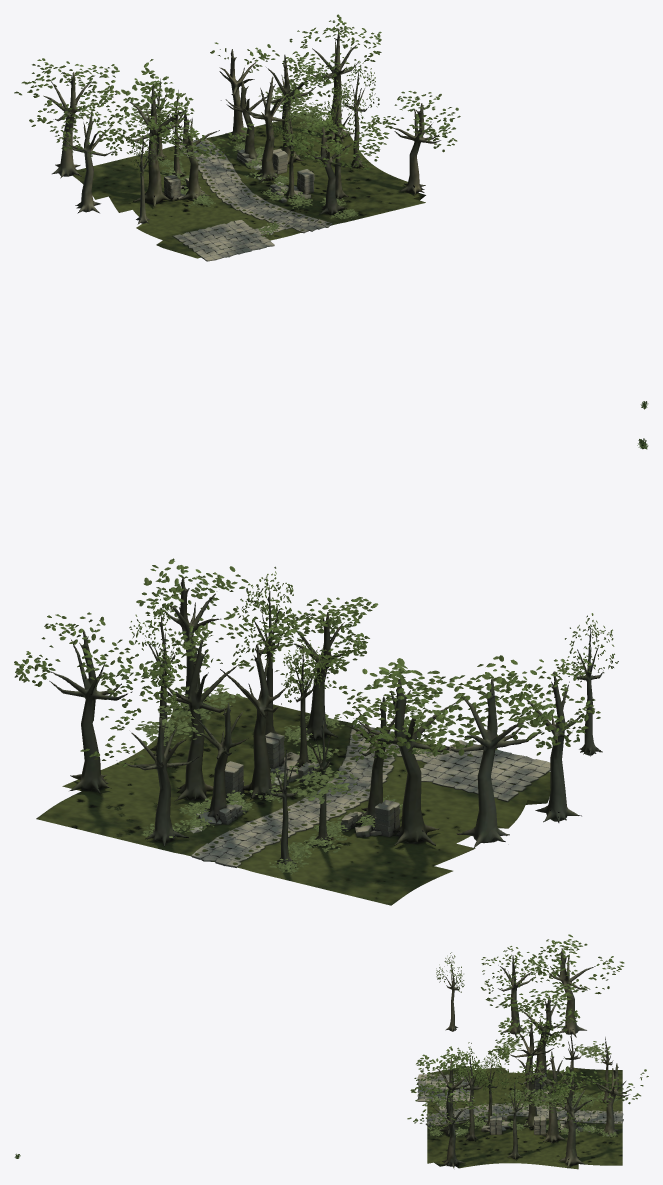
Rendered from canopy.glb.
The picture shows the model from 3 angles, top to bottom: view 1: azimuth 30°, elevation 25°; view 2: azimuth 150°, elevation 25°; view 3: azimuth 270°, elevation 25°; orthographic projection. The views are drawn at different scales.
Visible parts, largest first — view 1: ForestCanopy_Ground_Cell_-1_-4, ForestCanopy_Wood_Cell_-1_-4, ForestCanopy_Stone_Cell_-1_-4, ForestCanopy_Foliage_Cell_-1_-4, ForestCanopy_Foliage_Cell_-2_-4, ForestCanopy_Wood_Cell_-2_-4, ForestCanopy_Ground_Cell_-2_-4, PD11_Foliage_forest-canopy_Cell_-1_-4, ForestCanopy_Stone_Cell_-1_-3, ForestCanopy_Foliage_Cell_-1_-3, ForestCanopy_Ground_Cell_0_-4, ForestCanopy_Ground_Cell_-1_-3 (+7 smaller); view 2: ForestCanopy_Ground_Cell_-1_-4, ForestCanopy_Wood_Cell_-1_-4, ForestCanopy_Stone_Cell_-1_-4, ForestCanopy_Wood_Cell_-2_-4, ForestCanopy_Foliage_Cell_-1_-4, ForestCanopy_Foliage_Cell_-2_-4, ForestCanopy_Ground_Cell_-2_-4, PD11_Foliage_forest-canopy_Cell_-1_-4, ForestCanopy_Ground_Cell_0_-4, ForestCanopy_Foliage_Cell_0_-4, ForestCanopy_Wood_Cell_0_-4, ForestCanopy_Foliage_Cell_-1_-3 (+10 smaller); view 3: ForestCanopy_Ground_Cell_-1_-4, ForestCanopy_Wood_Cell_-1_-4, ForestCanopy_Foliage_Cell_-1_-4, ForestCanopy_Foliage_Cell_-2_-4, ForestCanopy_Stone_Cell_-1_-4, ForestCanopy_Ground_Cell_0_-4, PD11_Foliage_forest-canopy_Cell_-1_-4, ForestCanopy_Wood_Cell_-2_-4, ForestCanopy_Ground_Cell_-2_-4, ForestCanopy_Foliage_Cell_0_-4, ForestCanopy_Foliage_Cell_-1_-3, ForestCanopy_Wood_Cell_0_-4 (+7 smaller).
Boxes of the visible parts, bbox=[...] form: ForestCanopy_Ground_Cell_-1_-4: bbox=[108, 124, 364, 229]; ForestCanopy_Wood_Cell_-1_-4: bbox=[146, 49, 342, 200]; ForestCanopy_Stone_Cell_-1_-4: bbox=[164, 138, 314, 230]; ForestCanopy_Foliage_Cell_-1_-4: bbox=[138, 44, 350, 159]; ForestCanopy_Foliage_Cell_-2_-4: bbox=[14, 58, 180, 156]; ForestCanopy_Wood_Cell_-2_-4: bbox=[43, 72, 164, 213]; ForestCanopy_Ground_Cell_-2_-4: bbox=[72, 162, 199, 240]; PD11_Foliage_forest-canopy_Cell_-1_-4: bbox=[129, 86, 335, 207]; ForestCanopy_Stone_Cell_-1_-3: bbox=[203, 210, 332, 254]; ForestCanopy_Foliage_Cell_-1_-3: bbox=[281, 79, 386, 171]; ForestCanopy_Ground_Cell_0_-4: bbox=[272, 115, 405, 190]; ForestCanopy_Ground_Cell_-1_-3: bbox=[205, 191, 391, 247]; ForestCanopy_Ground_Cell_-1_-4: bbox=[95, 733, 465, 890]; ForestCanopy_Wood_Cell_-1_-4: bbox=[131, 599, 405, 865]; ForestCanopy_Stone_Cell_-1_-4: bbox=[191, 732, 467, 866]; ForestCanopy_Wood_Cell_-2_-4: bbox=[390, 671, 583, 847]; ForestCanopy_Foliage_Cell_-1_-4: bbox=[100, 571, 439, 765]; ForestCanopy_Foliage_Cell_-2_-4: bbox=[373, 655, 600, 756]; ForestCanopy_Ground_Cell_-2_-4: bbox=[332, 791, 525, 905]; PD11_Foliage_forest-canopy_Cell_-1_-4: bbox=[135, 684, 432, 874]; ForestCanopy_Ground_Cell_0_-4: bbox=[36, 718, 225, 833]; ForestCanopy_Foliage_Cell_0_-4: bbox=[14, 594, 217, 717]; ForestCanopy_Wood_Cell_0_-4: bbox=[49, 612, 175, 793]; ForestCanopy_Foliage_Cell_-1_-3: bbox=[234, 566, 378, 674]; ForestCanopy_Ground_Cell_-1_-4: bbox=[471, 1082, 622, 1152]; ForestCanopy_Wood_Cell_-1_-4: bbox=[469, 996, 623, 1143]; ForestCanopy_Foliage_Cell_-1_-4: bbox=[470, 985, 621, 1097]; ForestCanopy_Foliage_Cell_-2_-4: bbox=[481, 934, 622, 1036]; ForestCanopy_Stone_Cell_-1_-4: bbox=[470, 1074, 622, 1134]; ForestCanopy_Ground_Cell_0_-4: bbox=[471, 1146, 622, 1169]; PD11_Foliage_forest-canopy_Cell_-1_-4: bbox=[474, 1037, 619, 1137]; ForestCanopy_Wood_Cell_-2_-4: bbox=[498, 948, 595, 1083]; ForestCanopy_Ground_Cell_-2_-4: bbox=[473, 1067, 622, 1088]; ForestCanopy_Foliage_Cell_0_-4: bbox=[470, 1069, 616, 1125]; ForestCanopy_Foliage_Cell_-1_-3: bbox=[410, 1042, 471, 1097]; ForestCanopy_Wood_Cell_0_-4: bbox=[507, 1078, 593, 1168].
Size of the model in its own units: 54.87 by 22.32 by 101.
Materials: 4 (3 with a texture image).
